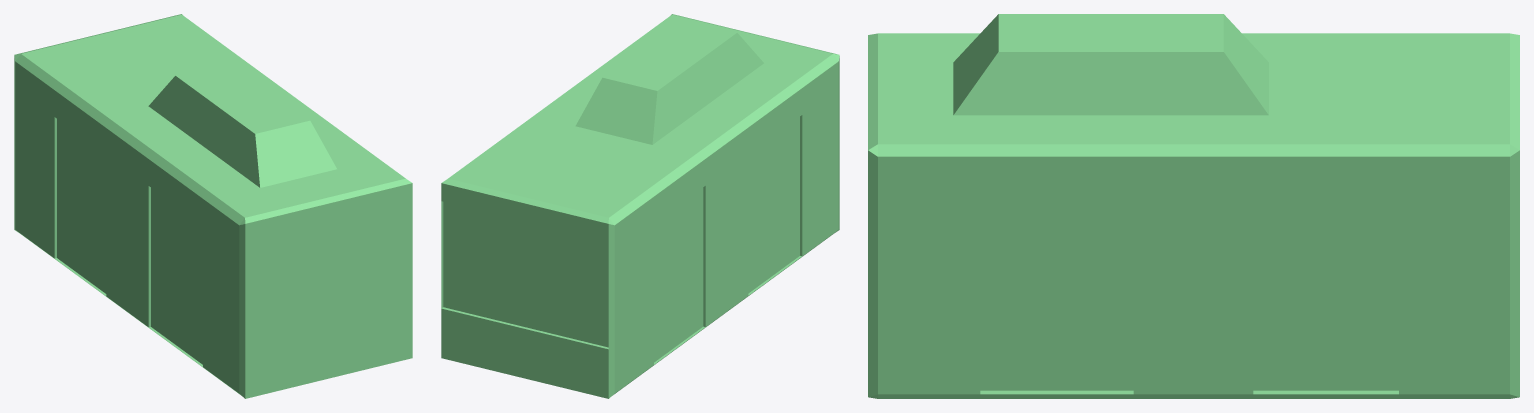
Rendered from temperaryobject.gltf.
3 renders of one model, left to right at view 1: azimuth 30°, elevation 25°; view 2: azimuth 150°, elevation 25°; view 3: azimuth 270°, elevation 25°, orthographic. The views are drawn at different scales.
Visible parts, largest first — view 1: Cube; view 2: Cube; view 3: Cube.
Part boxes in pixels (x1,y1,x2,y2): Cube: (14,14,412,398); Cube: (441,14,839,398); Cube: (868,14,1519,398).
Bounding box in the file's own units: 2 × 2.44 × 4.64.
